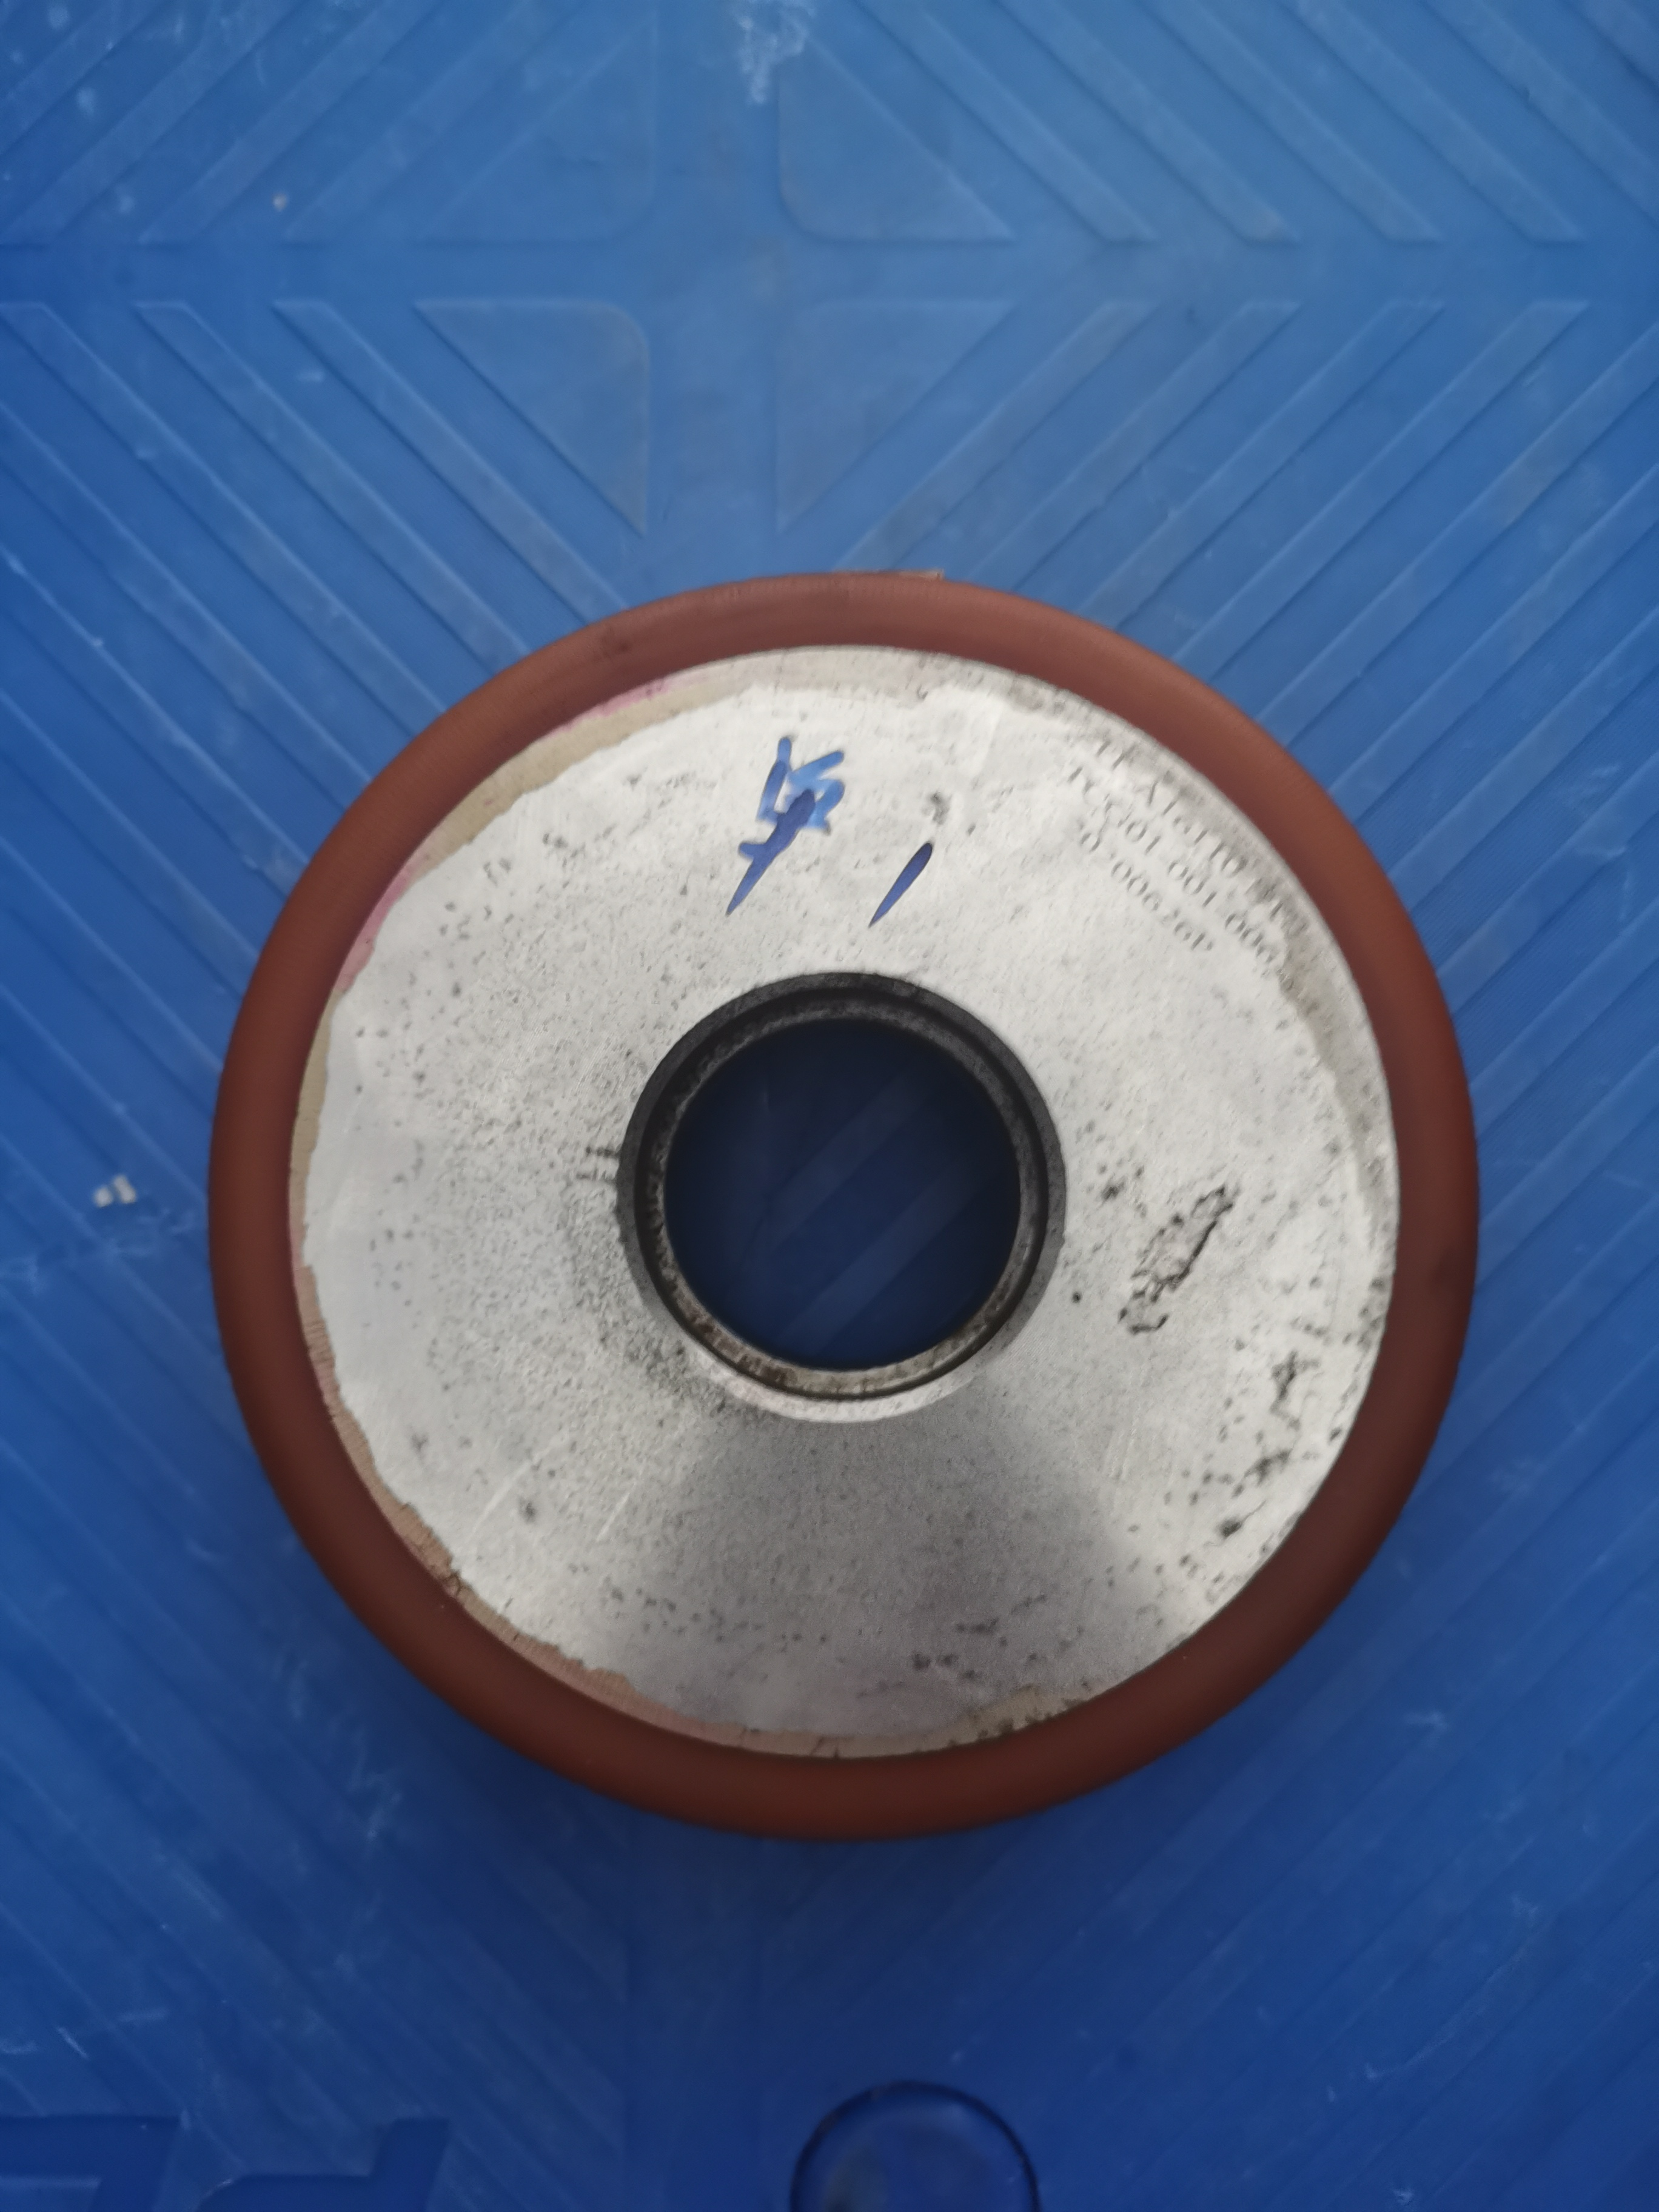good_wheel: (129, 557, 1528, 1791)
